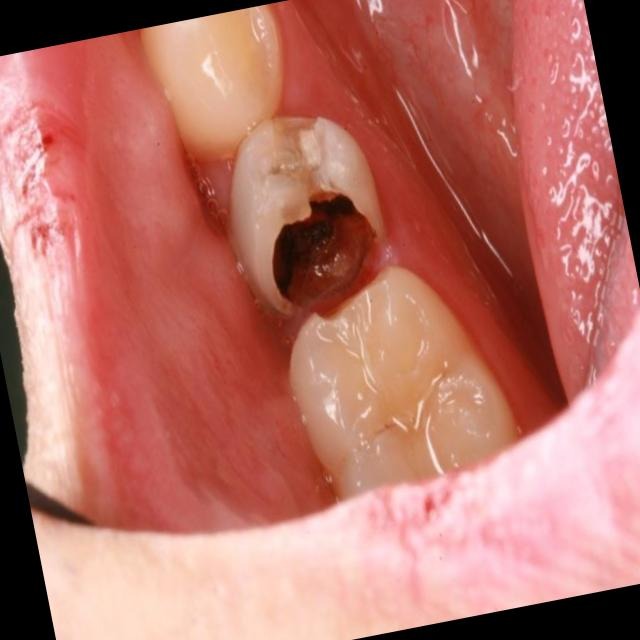Caries: (273, 218, 332, 301), (310, 195, 354, 220)
Cavity: (272, 189, 383, 309)
Tooth: (286, 265, 518, 504), (230, 112, 389, 315), (138, 4, 284, 163)
